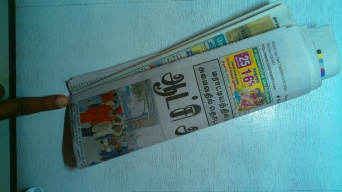p: (68, 4, 342, 170)
